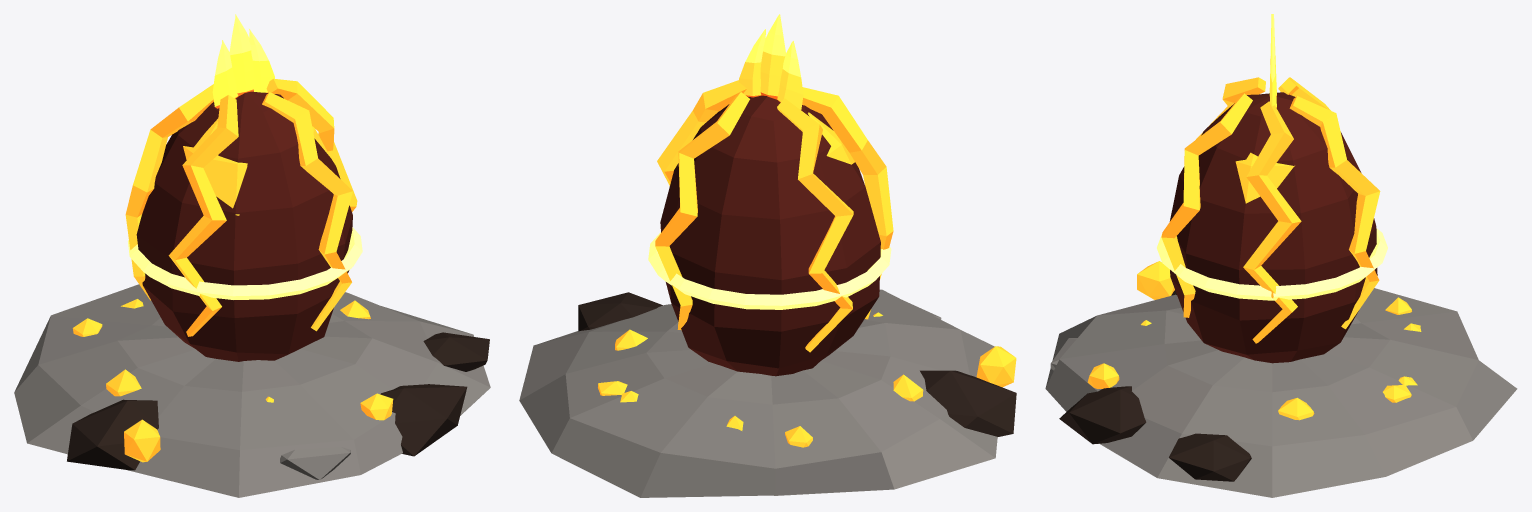
File: Phoenix_Egg.fbx
The picture shows the model from 3 angles, left to right: view 1: azimuth 30°, elevation 25°; view 2: azimuth 150°, elevation 25°; view 3: azimuth 270°, elevation 25°; orthographic projection. The views are drawn at different scales.
Parts seen in each view (by area): view 1: Phoenix_Egg; view 2: Phoenix_Egg; view 3: Phoenix_Egg.
Boxes of the visible parts, x1,y1,x2,y2 form: Phoenix_Egg: [14, 14, 490, 497]; Phoenix_Egg: [519, 14, 1016, 497]; Phoenix_Egg: [1045, 14, 1517, 497].
Size of the model in its own units: 0.7628 by 0.6499 by 0.7128.
